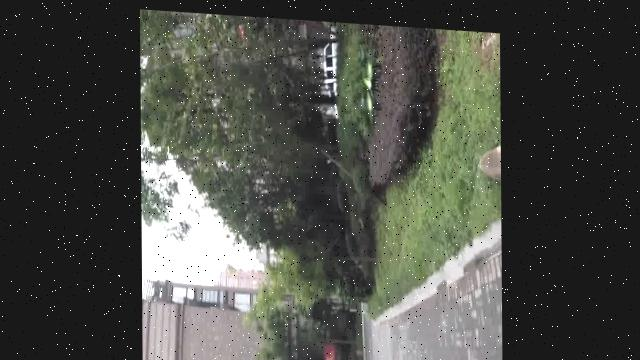drone: (356, 39, 385, 116)
